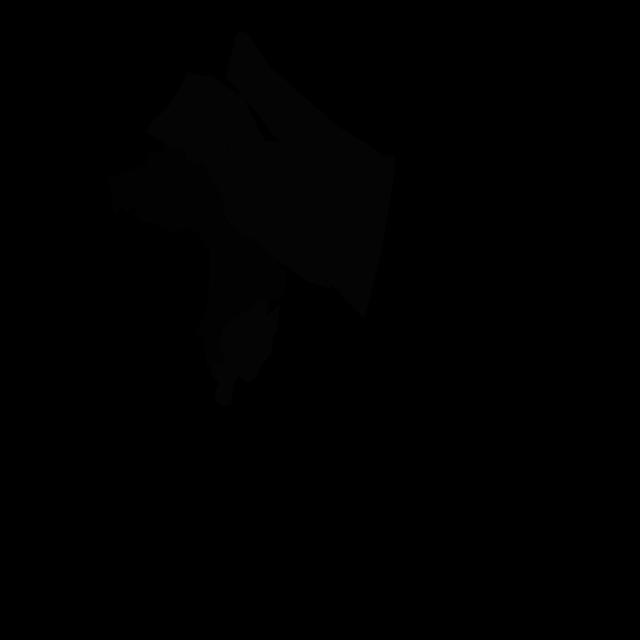cardboard: (108, 144, 286, 368)
soft_plastic: (224, 31, 395, 319), (147, 72, 265, 201), (210, 298, 280, 407)
